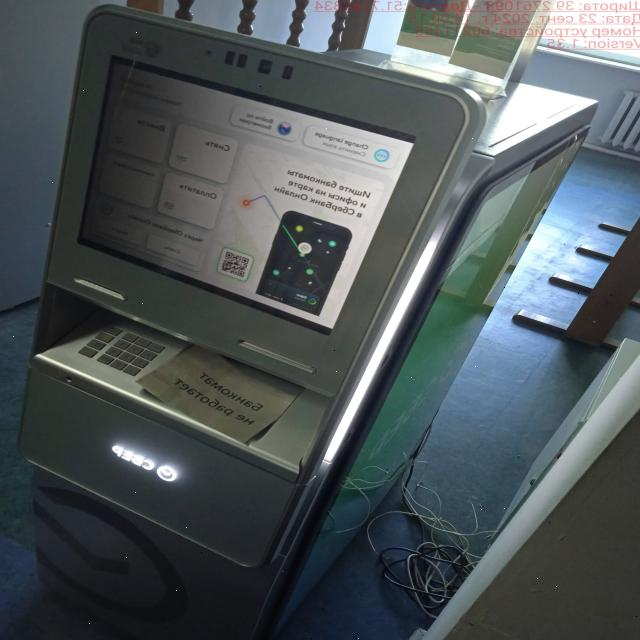bank: (14, 1, 610, 640)
